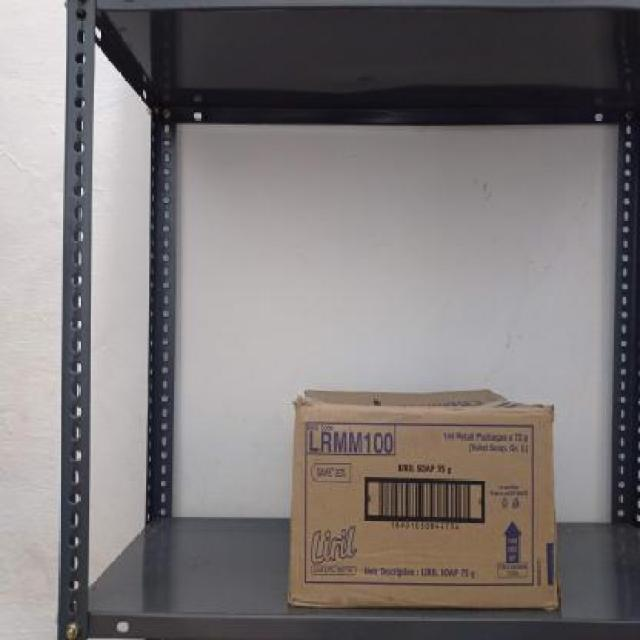box: (290, 399, 564, 610)
